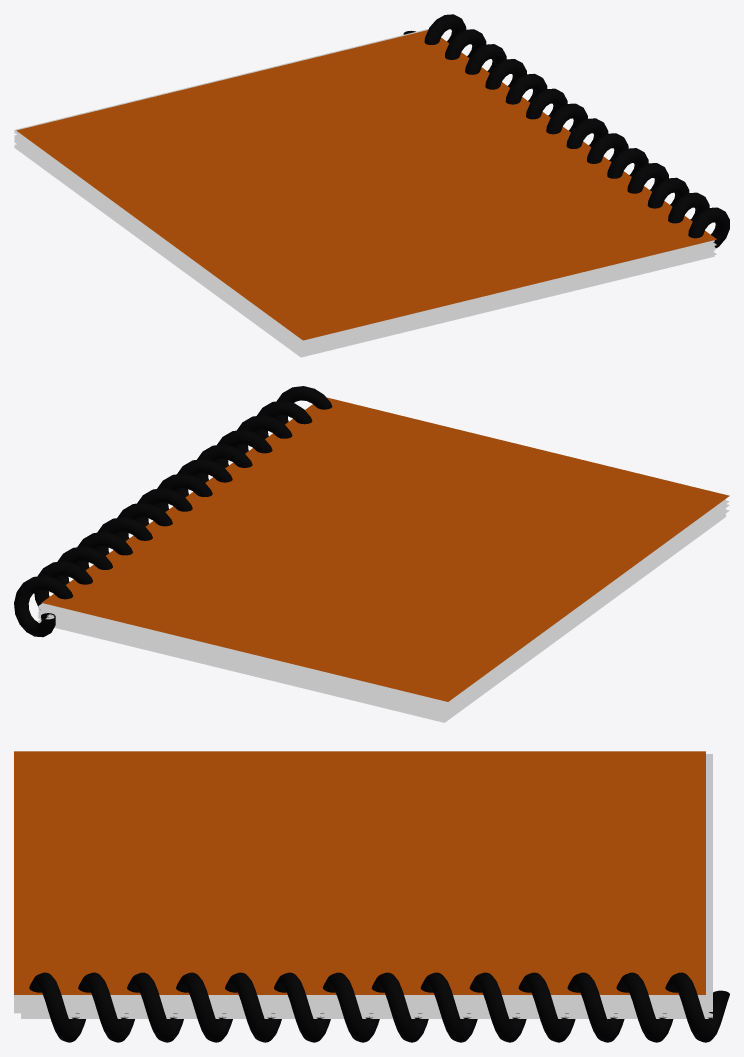
Rendered from caderno.obj.
3 views of the same model, one above another, from view 1: azimuth 30°, elevation 25°; view 2: azimuth 150°, elevation 25°; view 3: azimuth 270°, elevation 25° (orthographic). The views are drawn at different scales.
Visible parts, largest first — view 1: Plano, Círculo, Plano.102, Plano.101, Plano.203, Plano.002, Plano.103, Plano.001, Plano.202, Plano.050, Plano.152, Plano.051 (+1 smaller); view 2: Plano, Círculo, Plano.002, Plano.099, Plano.150, Plano.201, Plano.001, Plano.050, Plano.049, Plano.051, Plano.052, Plano.154 (+8 smaller); view 3: Plano, Círculo, Plano.002, Plano.099, Plano.150, Plano.102, Plano.101, Plano.201, Plano.100, Plano.052, Plano.051, Plano.151 (+5 smaller).
Boxes of the visible parts, x1,y1,x2,y2 form: Plano: [16, 30, 716, 340]; Círculo: [403, 14, 729, 247]; Plano.102: [16, 145, 716, 355]; Plano.101: [16, 135, 716, 345]; Plano.203: [16, 139, 716, 349]; Plano.002: [14, 29, 428, 339]; Plano.103: [14, 147, 714, 357]; Plano.001: [14, 132, 714, 342]; Plano.202: [14, 142, 714, 351]; Plano.050: [14, 131, 714, 341]; Plano.152: [14, 146, 714, 356]; Plano.051: [14, 137, 714, 347]; Plano: [41, 397, 729, 701]; Círculo: [14, 386, 332, 637]; Plano.002: [38, 499, 725, 705]; Plano.099: [38, 504, 725, 710]; Plano.150: [38, 514, 725, 720]; Plano.201: [38, 508, 725, 714]; Plano.001: [38, 501, 725, 707]; Plano.050: [38, 501, 725, 707]; Plano.049: [38, 500, 725, 706]; Plano.051: [38, 506, 725, 712]; Plano.052: [38, 505, 725, 711]; Plano.154: [38, 509, 725, 715]; Plano: [14, 751, 705, 994]; Círculo: [29, 972, 729, 1042]; Plano.002: [21, 754, 712, 997]; Plano.099: [21, 1000, 712, 1004]; Plano.150: [21, 1012, 712, 1015]; Plano.102: [14, 1006, 705, 1013]; Plano.101: [14, 995, 705, 1001]; Plano.201: [21, 1007, 712, 1008]; Plano.100: [21, 1006, 712, 1007]; Plano.052: [21, 1004, 712, 1005]; Plano.051: [21, 1005, 712, 1006]; Plano.151: [21, 1015, 712, 1016].
Size of the model in its own units: 0.2686 by 0.0305 by 0.3104.
